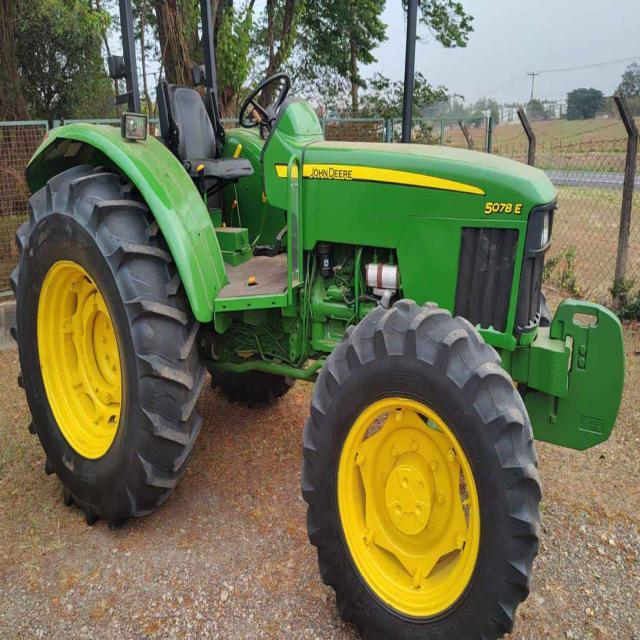Tratores - v5 YOLO V8L 2024-11-13: (10, 71, 622, 640)
